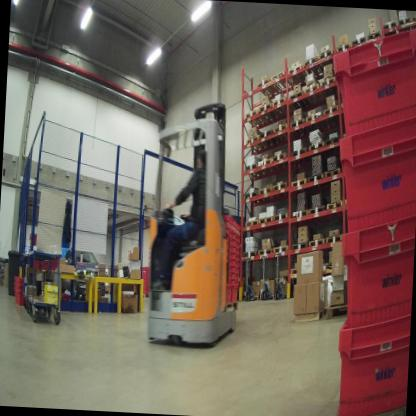forklift: (138, 91, 256, 358)
pallet: (270, 85, 313, 125), (334, 402, 405, 416), (257, 99, 283, 129), (293, 303, 330, 324), (301, 79, 328, 106), (285, 58, 311, 86), (244, 105, 270, 132), (270, 149, 294, 178), (255, 74, 277, 104), (271, 63, 293, 93), (259, 124, 283, 151), (318, 68, 335, 106), (316, 46, 338, 75), (302, 50, 324, 77), (258, 154, 280, 180), (245, 159, 268, 183), (287, 115, 309, 140), (324, 101, 340, 132), (273, 120, 294, 143), (324, 300, 348, 320), (303, 109, 324, 131), (242, 186, 265, 206), (288, 144, 308, 167), (245, 132, 268, 152), (324, 132, 342, 155), (256, 182, 277, 201), (325, 195, 344, 214), (379, 16, 398, 34), (394, 12, 411, 32), (272, 209, 290, 227), (308, 233, 327, 250), (308, 137, 325, 156), (307, 169, 324, 187), (224, 298, 241, 315), (257, 211, 273, 229), (272, 243, 291, 258), (289, 173, 308, 188), (323, 164, 342, 179), (292, 206, 309, 222), (291, 238, 309, 253), (351, 31, 367, 47), (244, 216, 261, 231), (308, 203, 326, 217), (272, 180, 290, 194), (326, 230, 341, 246), (365, 29, 381, 41), (258, 246, 273, 258), (334, 40, 350, 51), (242, 249, 258, 259), (290, 264, 300, 279), (339, 102, 346, 118), (250, 292, 260, 303), (411, 12, 416, 26), (281, 292, 288, 300)
pallet_truck: (240, 250, 260, 303), (256, 254, 275, 302), (271, 250, 286, 302)
small_load_carrier: (327, 102, 416, 244), (324, 20, 416, 153), (318, 296, 408, 416), (325, 215, 414, 336), (11, 285, 27, 306)
